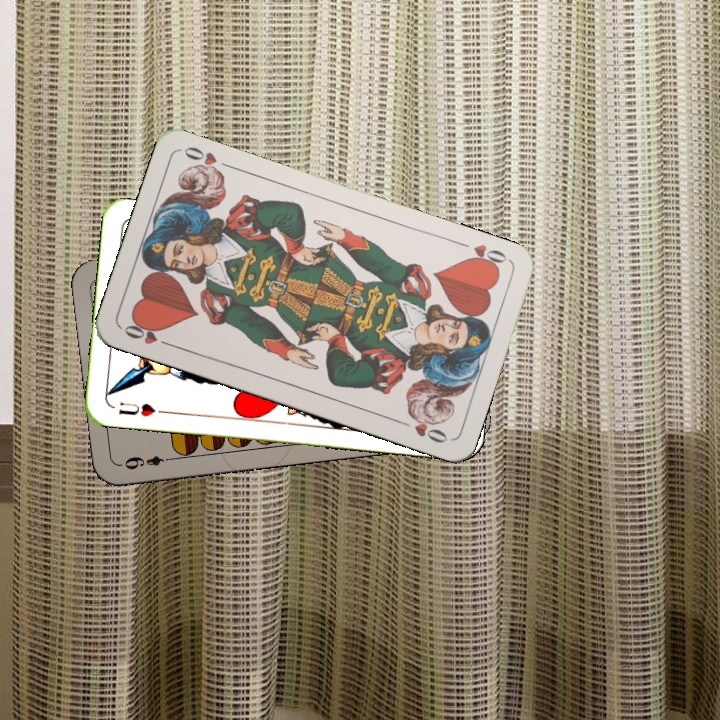E9: (120, 452, 177, 472)
HO: (120, 316, 176, 350), (462, 240, 512, 273)
HU: (115, 398, 168, 420)
